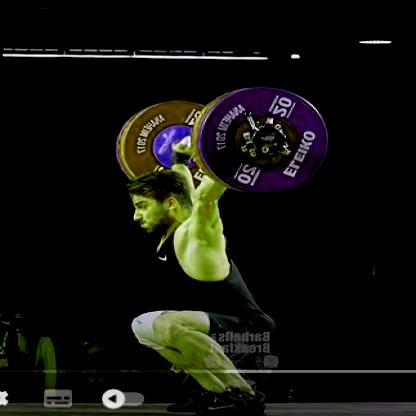Barbell: (268, 131, 289, 150)
